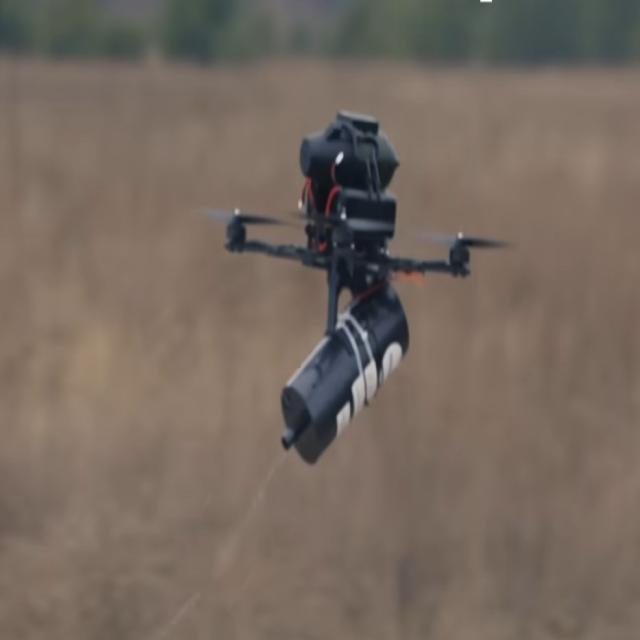drone: (193, 103, 521, 467)
